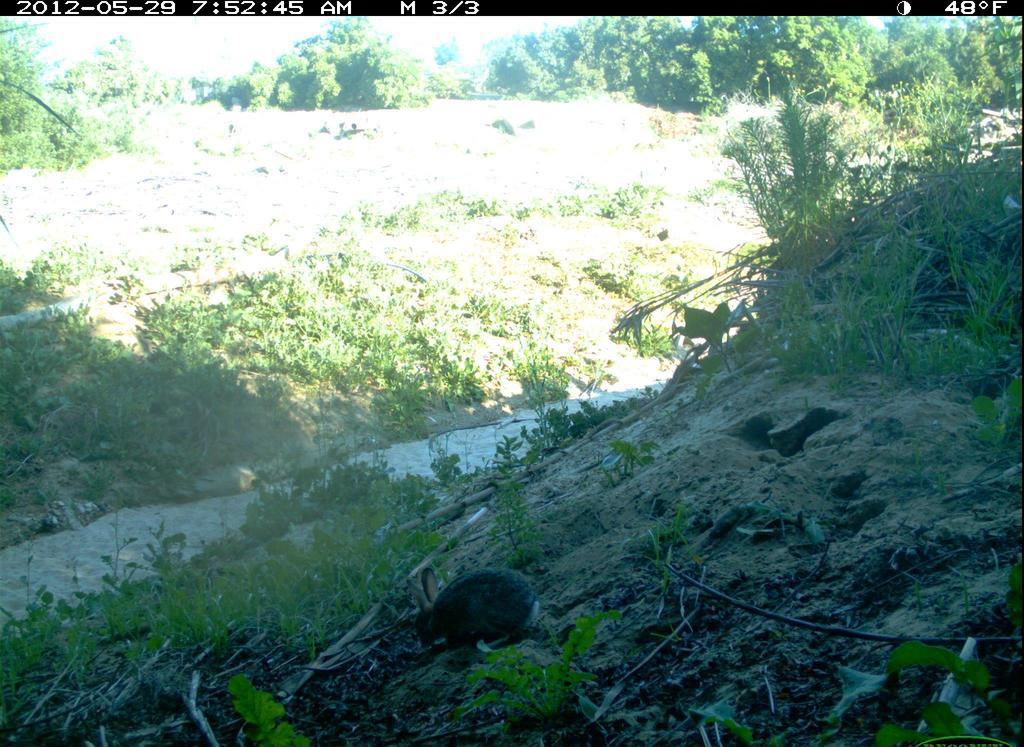rabbit: (395, 557, 560, 662)
